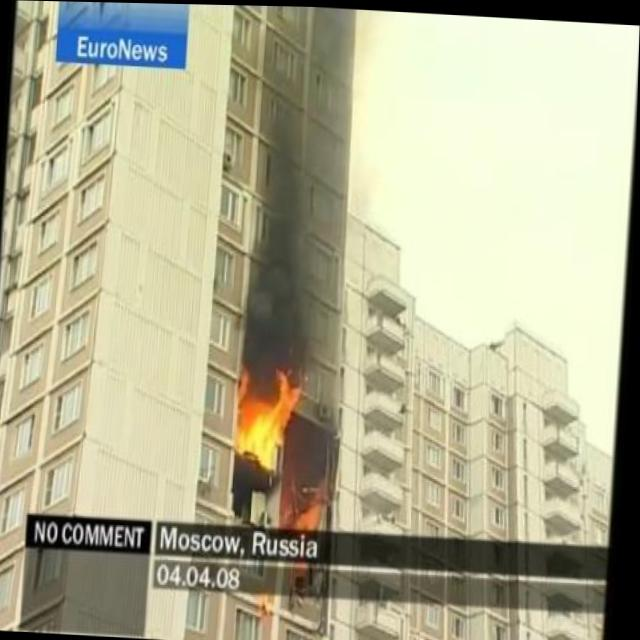fire: (235, 357, 311, 477), (297, 487, 330, 528)
